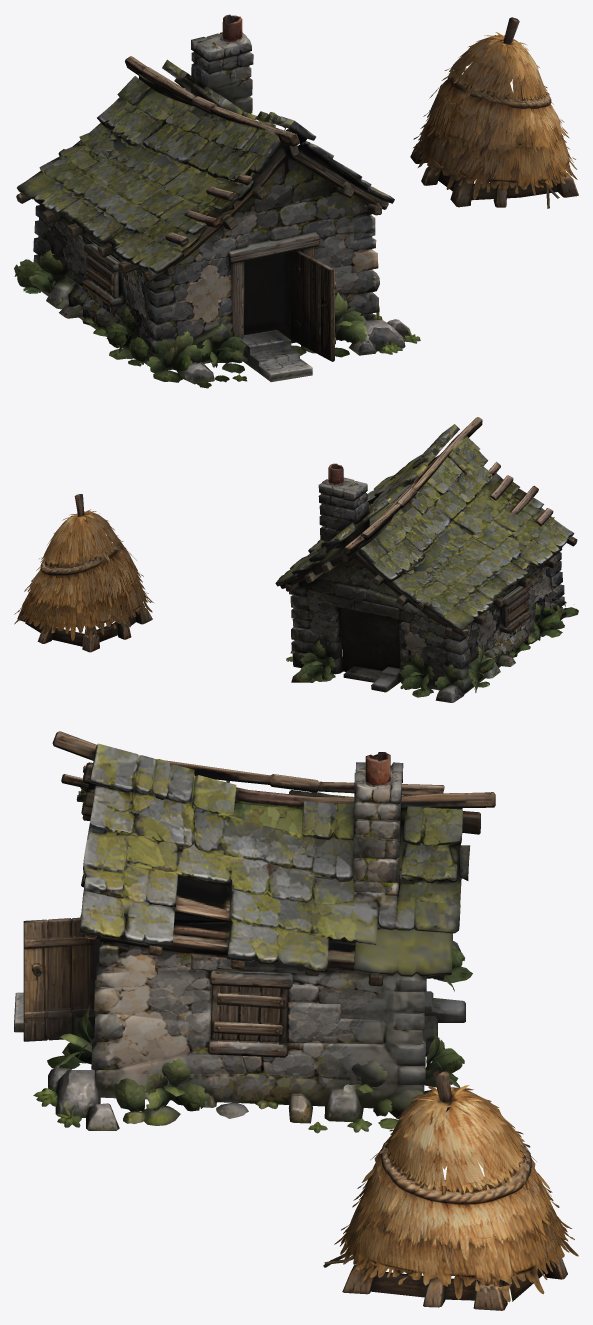
Rendered from act1_kit_v1_R13_poppy_farmhouse_rick.glb.
3 renders of one model, top to bottom at view 1: azimuth 30°, elevation 25°; view 2: azimuth 150°, elevation 25°; view 3: azimuth 270°, elevation 25°, orthographic. The views are drawn at different scales.
Parts seen in each view (by area): view 1: tripo_1970ade0_f746_4608_8e7e_589e15a447b0; view 2: tripo_1970ade0_f746_4608_8e7e_589e15a447b0; view 3: tripo_1970ade0_f746_4608_8e7e_589e15a447b0.
Part boxes in pixels (<box>): tripo_1970ade0_f746_4608_8e7e_589e15a447b0: <box>14,14,578,388</box>; tripo_1970ade0_f746_4608_8e7e_589e15a447b0: <box>14,417,578,702</box>; tripo_1970ade0_f746_4608_8e7e_589e15a447b0: <box>14,731,578,1310</box>.
Size of the model in its own units: 0.9995 by 0.4429 by 0.6597.
Materials: 1 (1 with a texture image).
